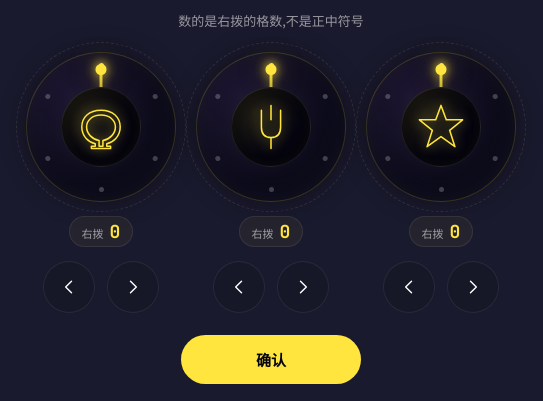
DialModule › each dial has its own independent step reading
The width and height of the screenshot is (543, 401).
Click the button with test id "dial-1-right".
click(303, 287)  # box [277,261,329,313]
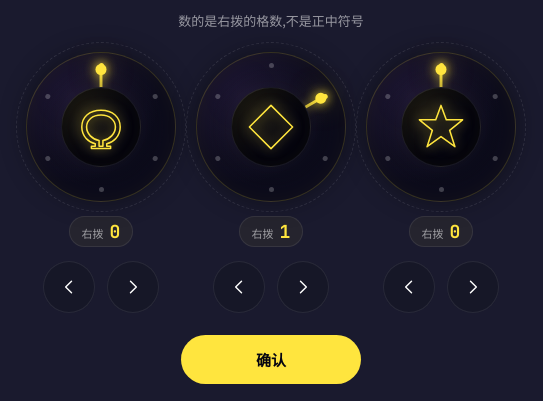
Expected: the element with test id "dial-0-steps" shows "0", [110,220,120,243]
Expected: the element with test id "dial-1-steps" shows "1", [280,220,290,243]
